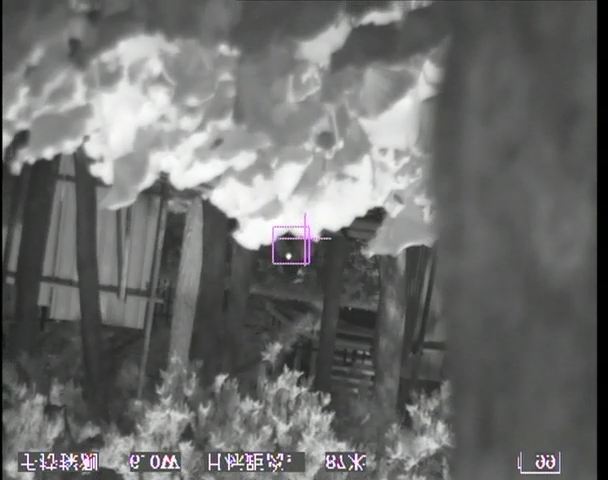my: (285, 252, 294, 262)
